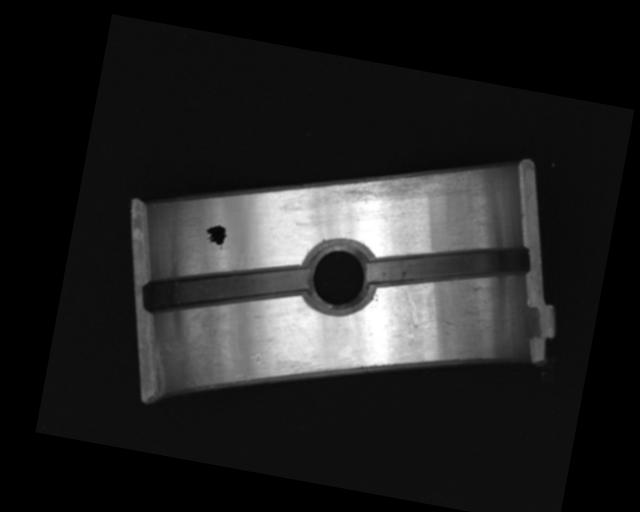blot: (201, 221, 230, 250)
bruise: (434, 316, 457, 338), (250, 351, 264, 367)
gap: (143, 239, 312, 337), (364, 221, 534, 311)
hole: (296, 231, 382, 321)
nick: (393, 284, 426, 343)
scratch: (327, 145, 475, 224)
